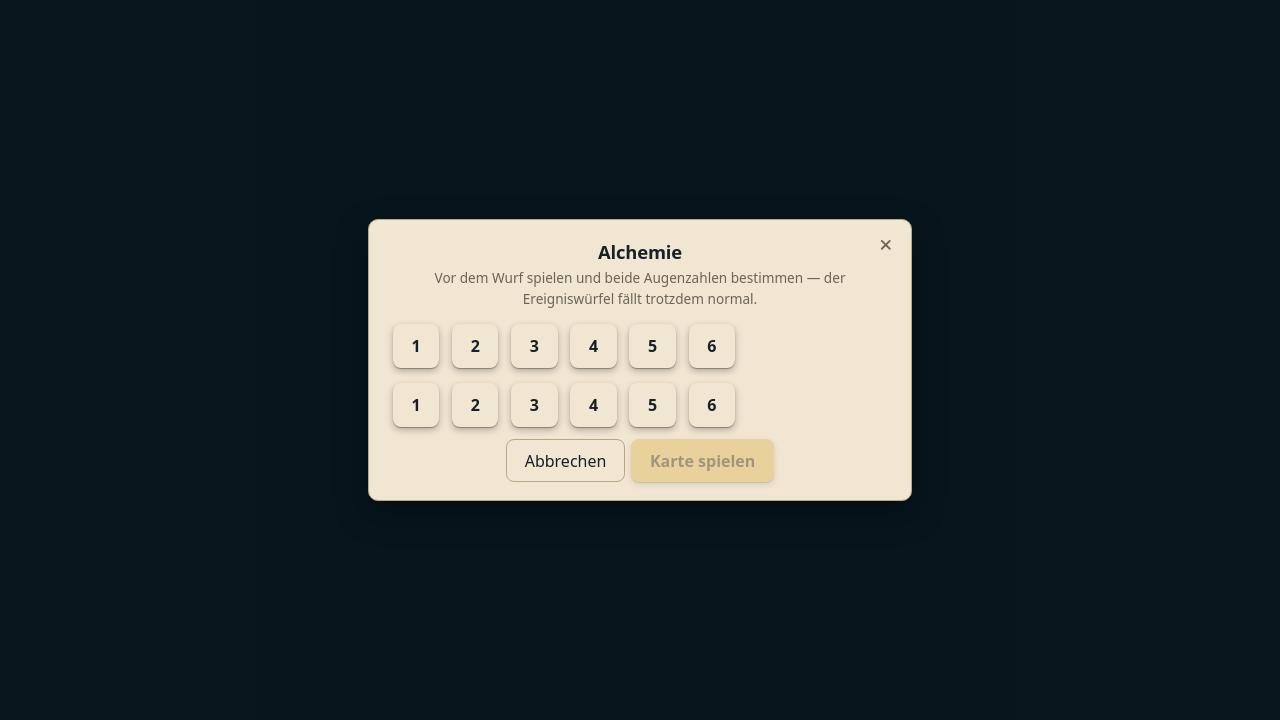
Scenario: ProgressPlayDialog - Alchemie › sperrt "Karte spielen", bis beide Augenzahlen gewaehlt sind
Expected: the button "Karte spielen" is disabled, [631,439,774,482]
Click the 1st button "3" at coordinates (534, 346), box [511,324,558,368]
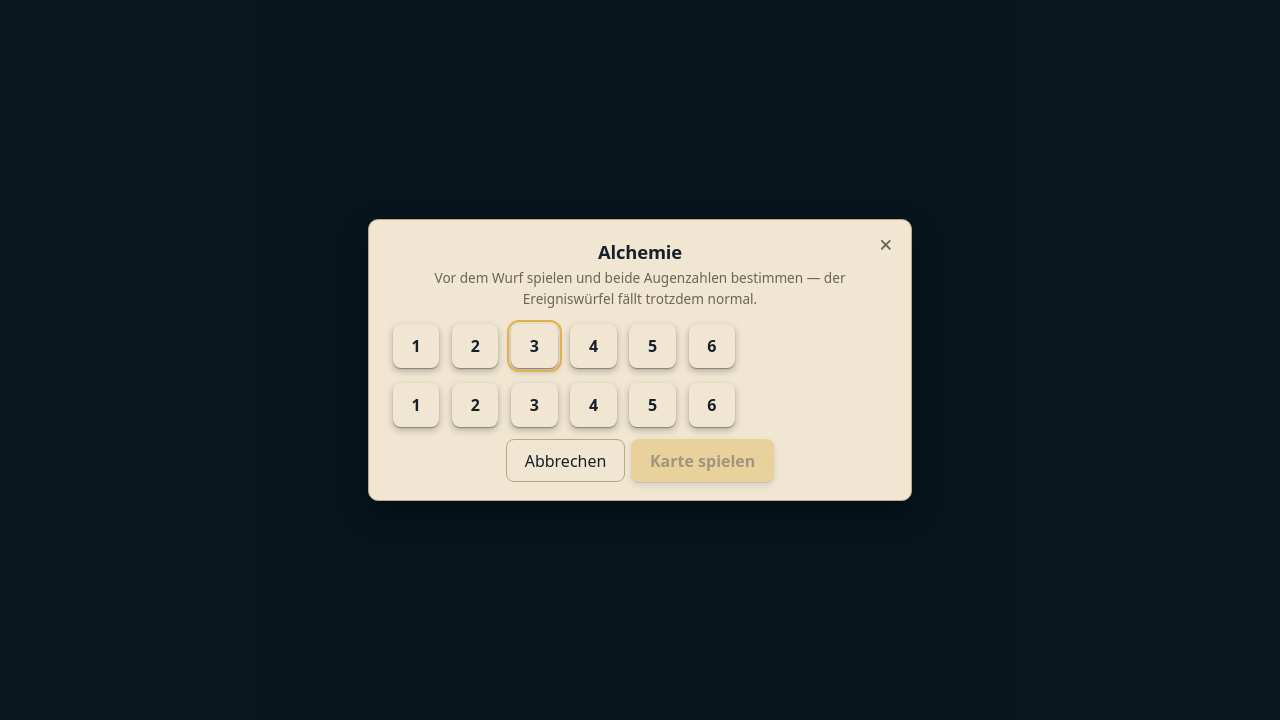
Expected: the button "Karte spielen" is disabled, [631,439,774,482]
Click the 2nd button "5" at coordinates (653, 405), box [629,383,676,427]
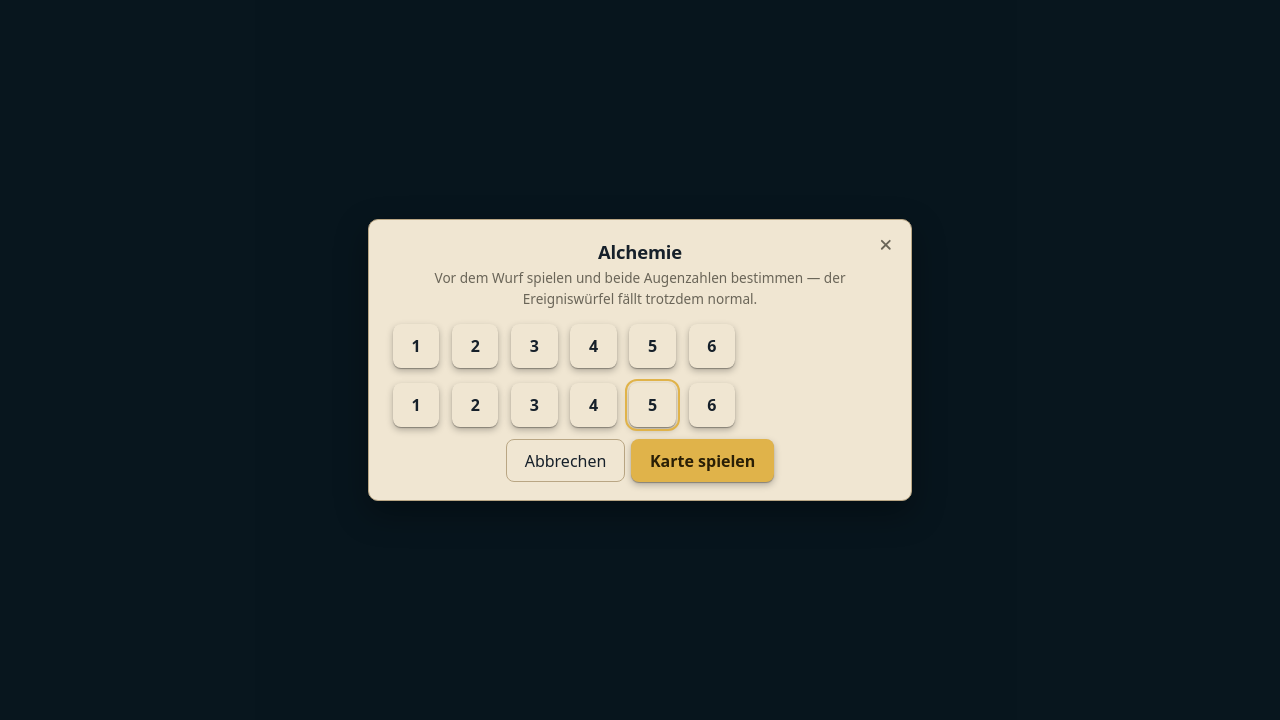
Expected: the button "Karte spielen" is enabled, [631,439,774,482]
